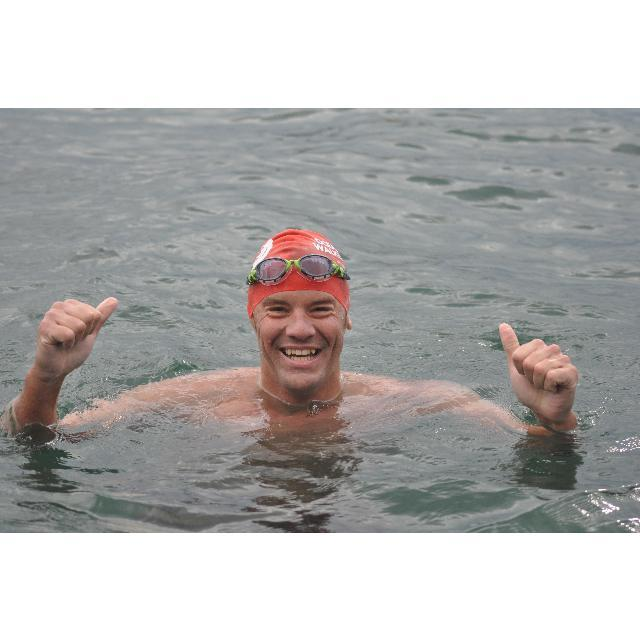human: (8, 227, 584, 448)
